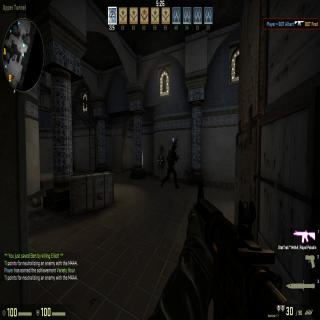CT-Body: (165, 143, 178, 190)
CT-Head: (171, 143, 177, 152)
